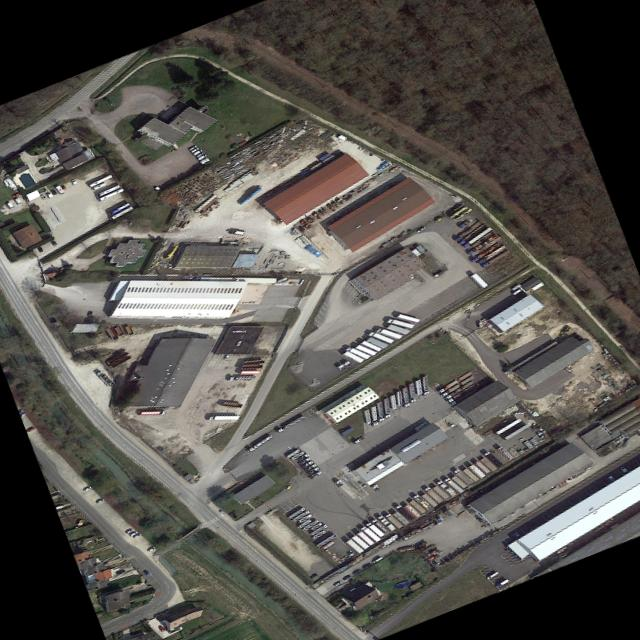large-vehicle: (445, 382, 479, 403), (467, 233, 499, 255), (454, 220, 484, 241), (275, 414, 306, 434), (476, 245, 507, 264), (459, 223, 487, 244), (464, 226, 492, 247), (471, 242, 500, 262), (448, 387, 478, 406), (482, 249, 511, 267), (247, 434, 273, 452), (375, 514, 397, 532), (452, 468, 474, 486), (482, 450, 504, 468), (443, 477, 466, 494), (359, 525, 382, 542), (435, 479, 458, 496), (422, 485, 443, 503), (393, 504, 415, 521), (96, 183, 122, 197), (384, 512, 405, 529), (344, 346, 371, 359), (88, 174, 113, 188), (374, 327, 403, 339), (98, 188, 124, 201), (411, 494, 432, 510), (110, 206, 134, 220), (367, 331, 395, 343), (365, 521, 385, 537), (437, 379, 459, 393), (440, 383, 462, 397), (96, 370, 115, 386), (385, 318, 415, 328), (108, 202, 131, 215), (443, 386, 464, 400), (370, 518, 389, 533), (309, 523, 328, 535), (403, 528, 421, 540), (292, 509, 310, 521), (207, 414, 241, 420), (288, 506, 305, 518), (376, 400, 385, 422), (370, 405, 379, 426), (401, 386, 410, 407), (302, 519, 319, 530), (383, 397, 391, 418), (408, 381, 416, 402), (422, 375, 430, 395), (297, 518, 311, 529), (495, 578, 510, 588), (290, 450, 305, 460), (228, 375, 257, 380), (92, 181, 108, 190), (312, 529, 326, 539), (139, 410, 167, 415), (286, 448, 300, 458), (295, 453, 310, 462), (298, 513, 312, 522), (306, 466, 320, 475), (304, 463, 317, 472), (300, 460, 313, 469), (297, 457, 311, 465), (55, 185, 66, 195), (486, 571, 499, 579), (310, 522, 323, 530), (352, 436, 365, 444), (336, 363, 347, 371), (342, 360, 354, 367), (372, 556, 383, 563), (6, 201, 15, 209), (15, 196, 23, 205), (234, 230, 248, 235), (46, 192, 54, 198), (154, 185, 162, 191), (56, 504, 65, 509)
small-vehicle: (309, 470, 322, 479), (196, 153, 208, 160), (188, 144, 198, 151), (192, 149, 203, 155), (416, 226, 426, 232), (363, 563, 372, 569), (190, 147, 199, 153), (195, 151, 204, 157), (333, 580, 342, 586), (83, 485, 92, 491), (96, 497, 105, 503), (129, 530, 138, 536), (147, 546, 156, 552), (40, 193, 47, 200), (50, 188, 57, 195), (620, 466, 628, 472), (607, 474, 615, 480), (70, 179, 78, 185), (133, 532, 141, 538), (50, 240, 57, 246), (143, 569, 150, 575), (27, 427, 35, 432), (310, 573, 318, 578), (353, 569, 361, 574), (343, 575, 351, 580), (125, 528, 133, 533), (286, 483, 292, 489), (116, 570, 125, 574), (159, 625, 165, 631), (37, 246, 43, 252), (223, 354, 230, 359), (513, 532, 520, 537), (60, 184, 66, 189), (128, 220, 134, 225)
